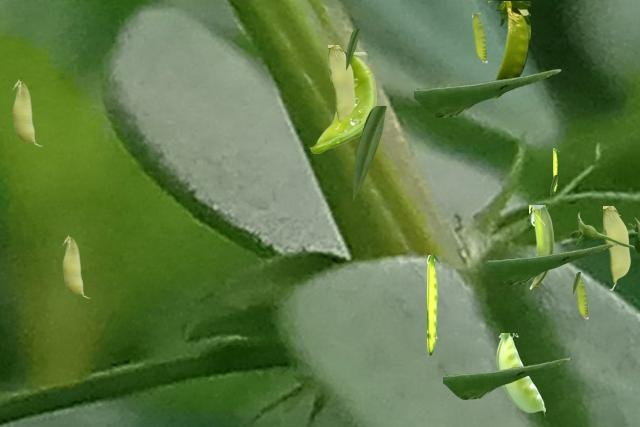pea: (309, 52, 375, 152), (496, 333, 544, 416), (488, 1, 529, 97), (603, 206, 629, 289), (328, 45, 354, 128), (529, 205, 554, 288), (12, 79, 41, 145), (62, 235, 89, 297), (427, 255, 441, 355), (472, 13, 486, 62), (575, 274, 587, 318), (553, 148, 558, 192)
